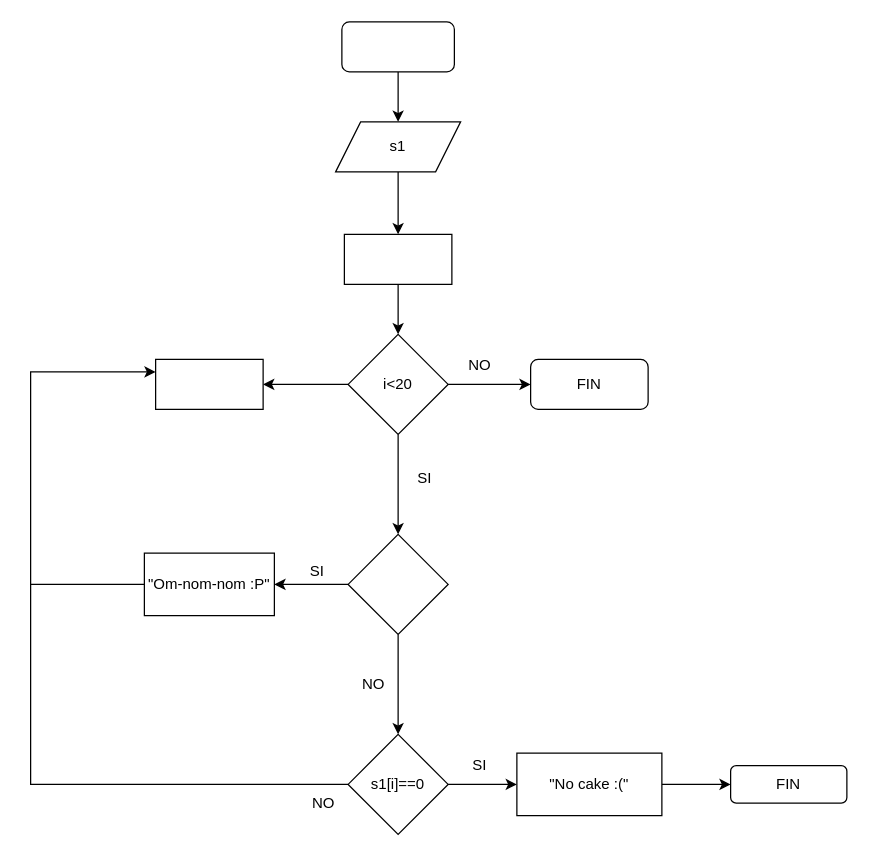
This 869x856 diagram has some shape labels left out. The box of each missing label's shape, as (x1, y1, x2, y2) in pixels:
++i: (154, 358, 263, 409)
i=0: (343, 233, 452, 284)
INICIO: (341, 21, 454, 72)
s1[i]==1?: (347, 533, 448, 634)
